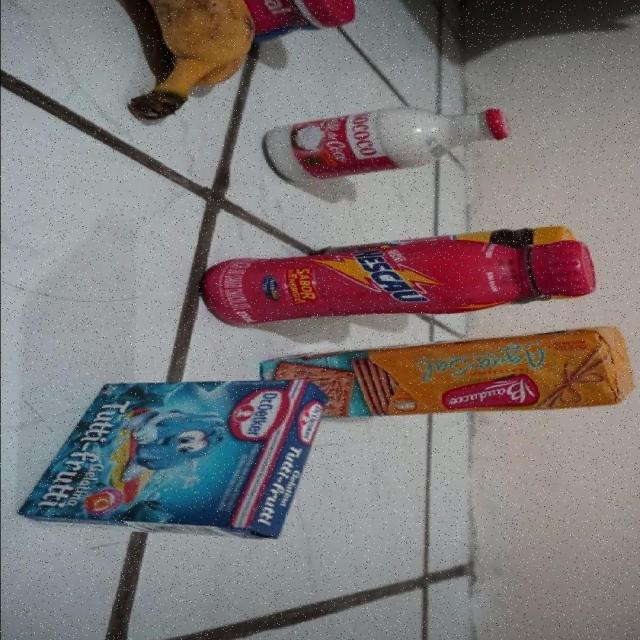Banana: (90, 0, 243, 121)
ChocolateMilk: (217, 239, 591, 325)
ChocolatePowder: (472, 221, 580, 245)
CoconutMilk: (271, 104, 507, 183)
Cracker: (330, 323, 635, 426)
Gelatine: (63, 378, 338, 535)
Yeast: (243, 0, 352, 43)
